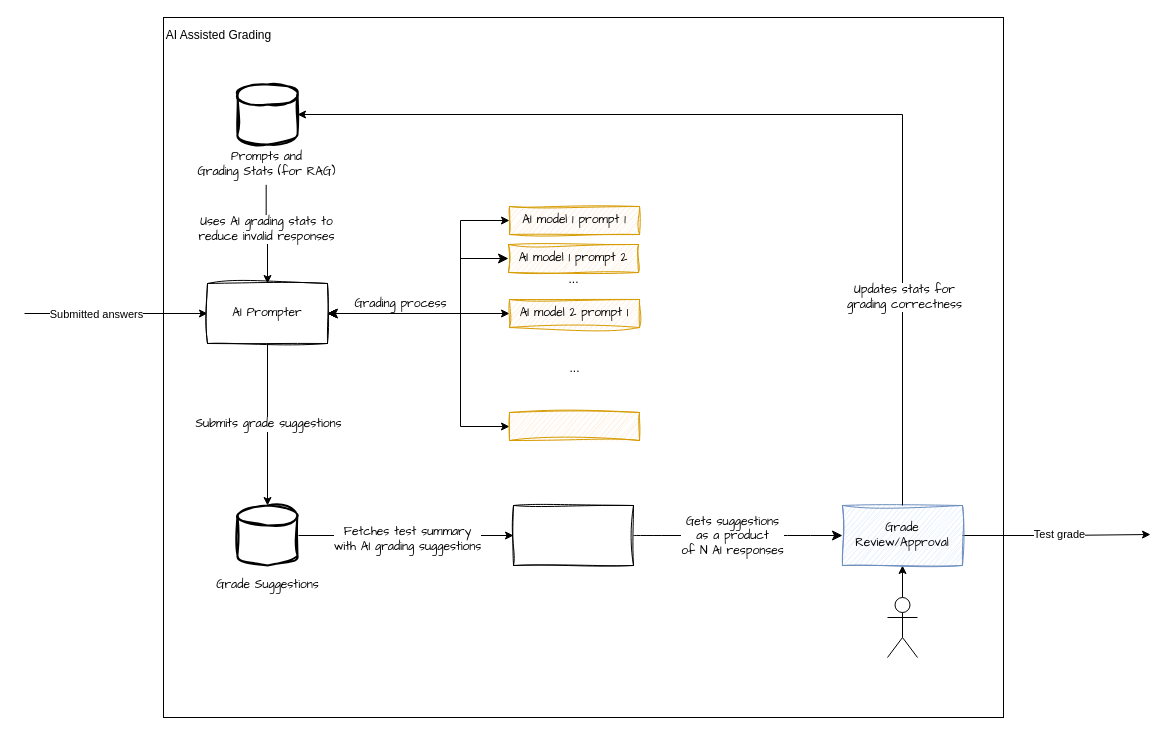
Image size: 1176x735. Some labels were removed from this diagram. The centre of each missing label's shape, as x and y in pixels:
AI model N prompt M: (574,426)
Employed Expert Software Architects: (902,627)
Suggestions aggregator: (573,535)
